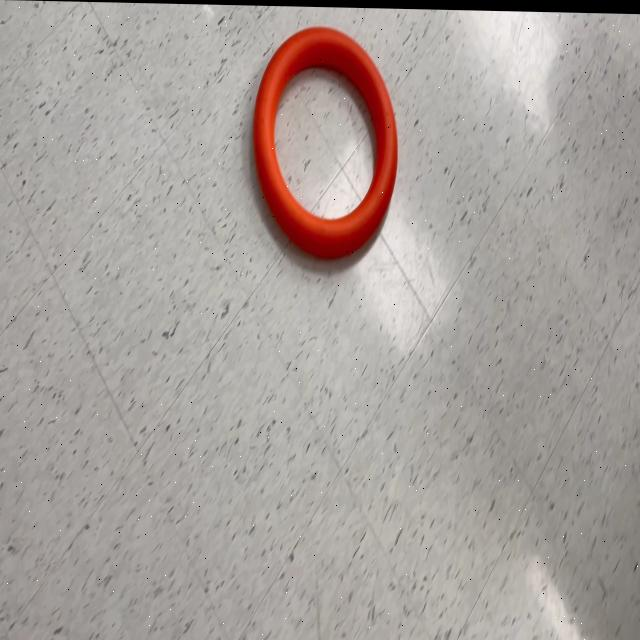note: (252, 23, 398, 269)
